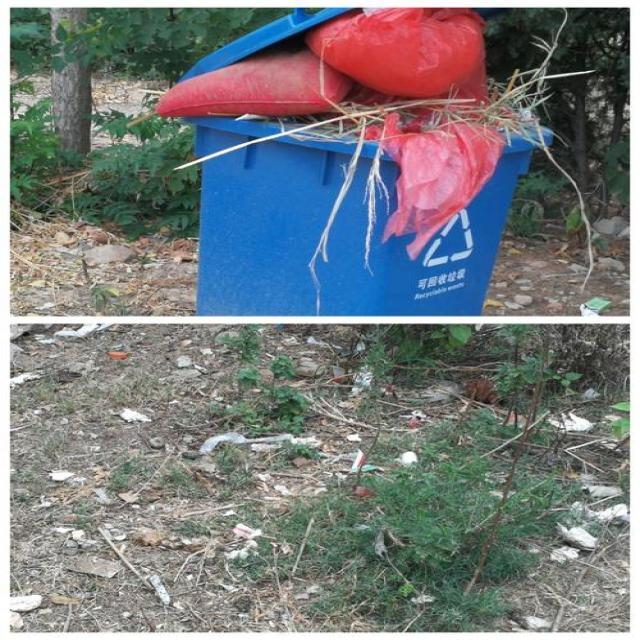overflow: (155, 8, 552, 314)
